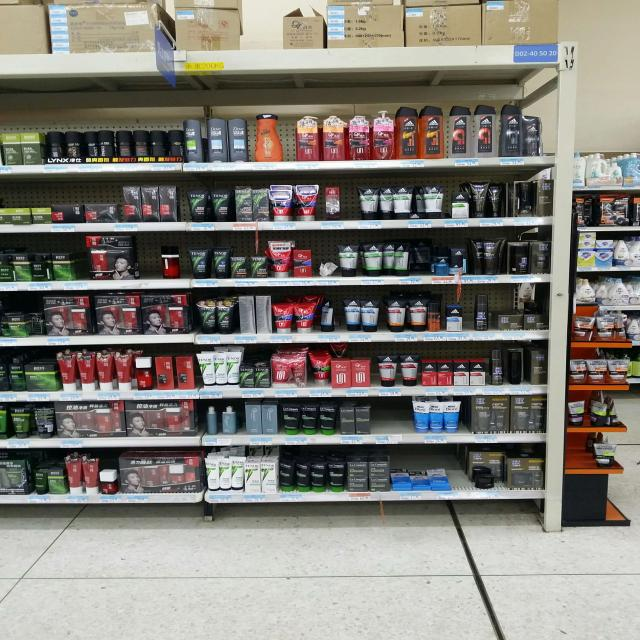empty: (371, 396, 412, 433), (135, 231, 162, 276), (340, 178, 363, 228), (446, 449, 467, 490)
